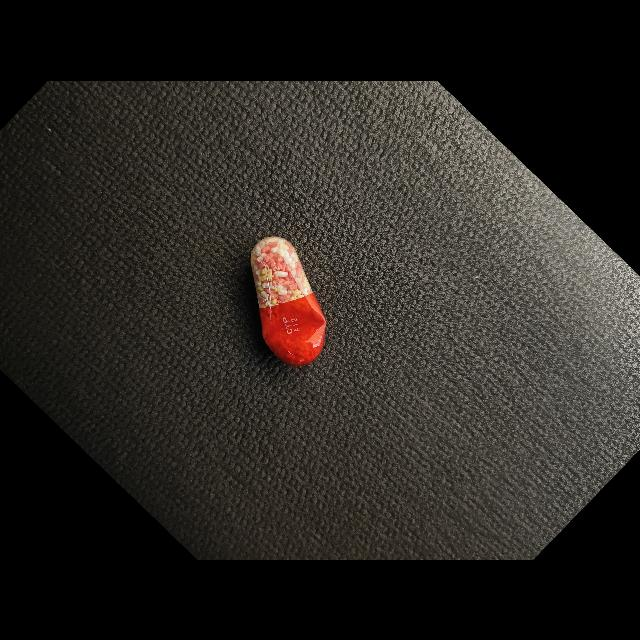Defective Capsule: (251, 236, 327, 366)
